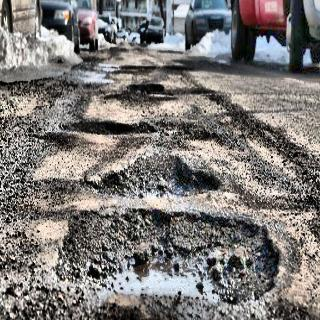pothole: (65, 196, 286, 310), (76, 158, 240, 200), (59, 111, 166, 148), (123, 74, 175, 104)
